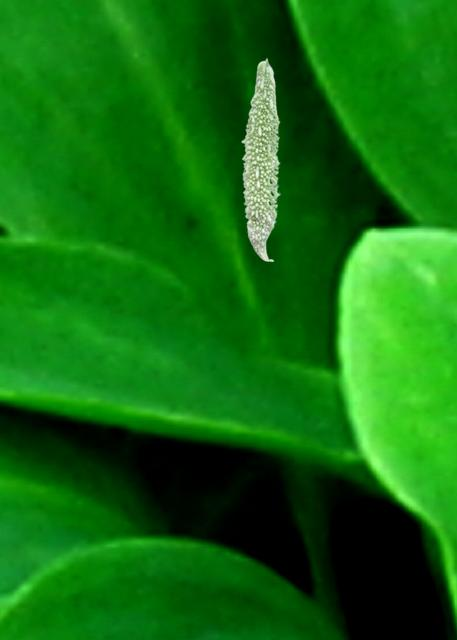ampalaya: (239, 57, 281, 263)
